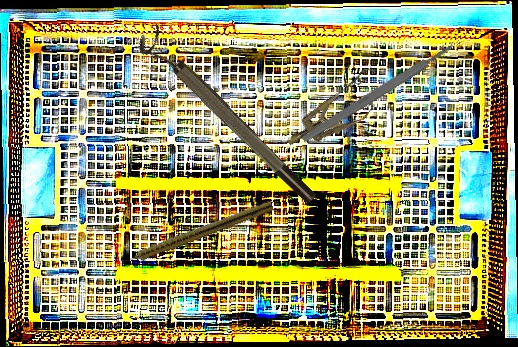Fixation Ring: (133, 22, 320, 215)
Handpiece: (118, 197, 275, 269)
Scalpel Handle: (300, 42, 455, 145)
Speculum: (276, 63, 394, 162)
